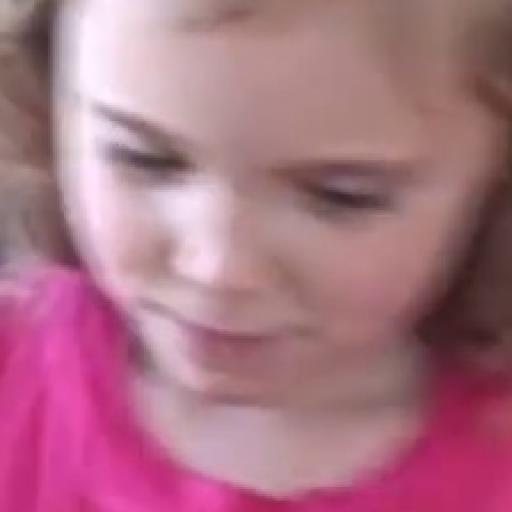Autism: (27, 30, 512, 439)
